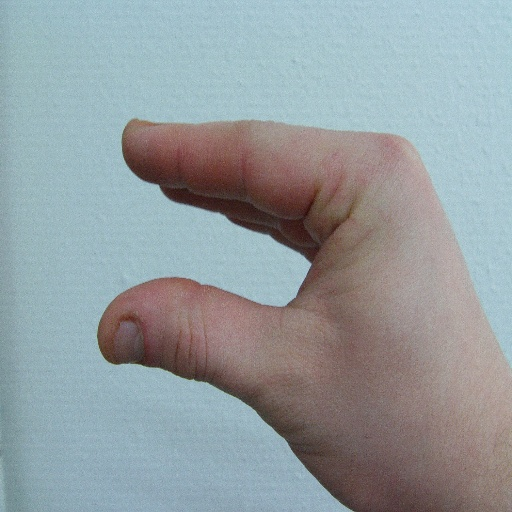hand: (97, 117, 511, 511)
